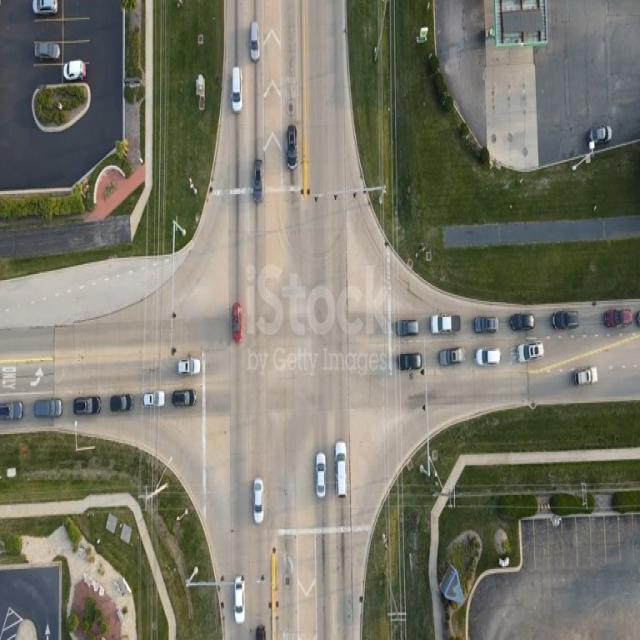car: (336, 442, 349, 497), (33, 398, 62, 418), (235, 62, 247, 110), (603, 308, 631, 328), (431, 315, 459, 335), (234, 577, 246, 623), (68, 400, 96, 419), (588, 127, 612, 149), (552, 311, 578, 331), (75, 396, 101, 416), (232, 66, 243, 113), (0, 403, 24, 424), (397, 353, 422, 373), (253, 479, 264, 523), (518, 344, 543, 363), (511, 313, 535, 332), (572, 367, 596, 386), (64, 61, 86, 81), (316, 454, 326, 498), (232, 304, 243, 344), (477, 349, 501, 367), (475, 317, 499, 335), (112, 397, 136, 415), (287, 127, 297, 170), (253, 160, 263, 203), (441, 349, 464, 367), (397, 320, 419, 338), (177, 359, 200, 376), (34, 0, 58, 16), (172, 391, 194, 408), (250, 23, 259, 61), (144, 391, 164, 407), (254, 627, 264, 640)
pickup-truck: (34, 40, 61, 60)
